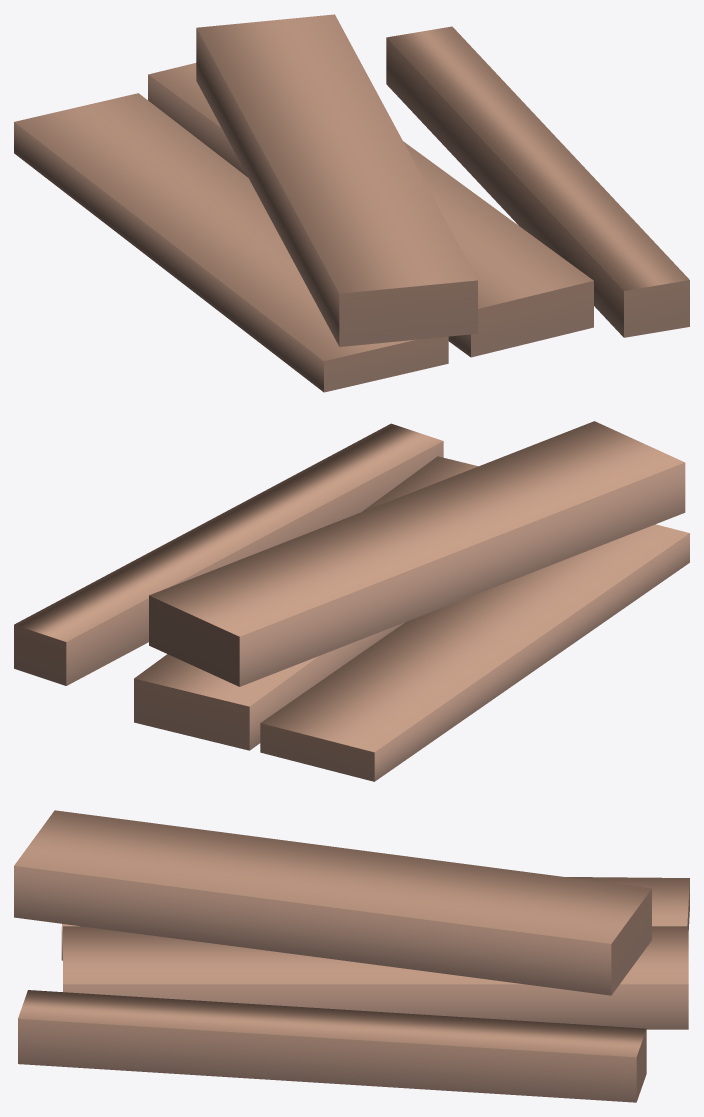
Rendered from platform-planks.glb.
3 renders of one model, top to bottom at view 1: azimuth 30°, elevation 25°; view 2: azimuth 150°, elevation 25°; view 3: azimuth 270°, elevation 25°, orthographic. The views are drawn at different scales.
Visible parts, largest first — view 1: platform-planks; view 2: platform-planks; view 3: platform-planks.
Part boxes in pixels (x1,y1,x2,y2): platform-planks: (14, 14, 689, 392); platform-planks: (14, 421, 689, 781); platform-planks: (14, 810, 689, 1102).
Size of the model in its own units: 1.89 by 0.428 by 2.7.
